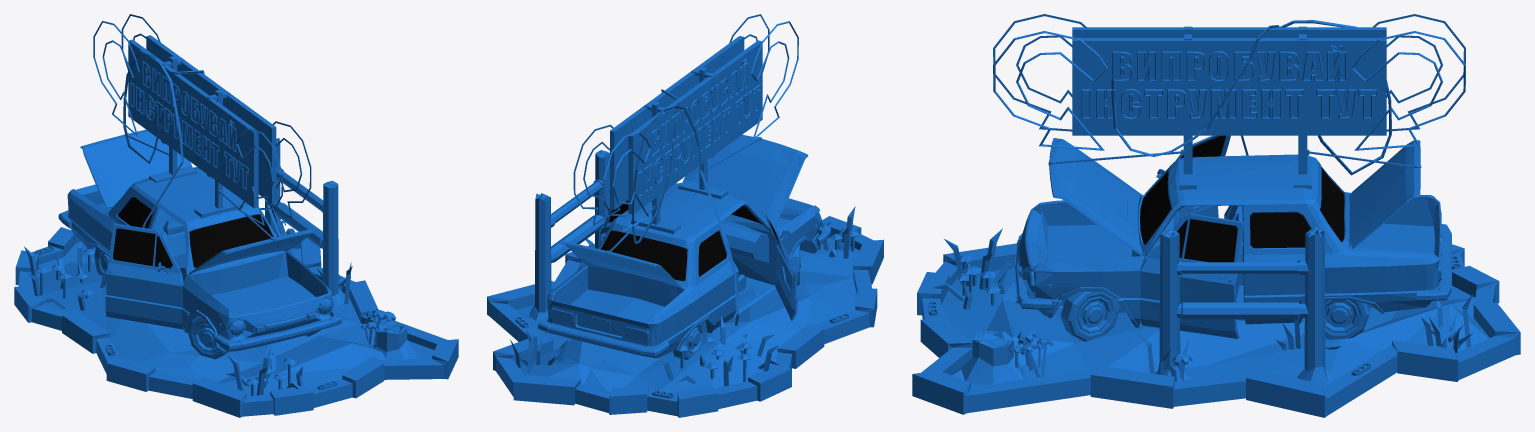
File: space_exhibition_stand.fbx
3 views of the same model, side by side, from view 1: azimuth 30°, elevation 25°; view 2: azimuth 150°, elevation 25°; view 3: azimuth 270°, elevation 25° (orthographic). The views are drawn at different scales.
Parts seen in each view (by area): view 1: Cylinder_131; view 2: Cylinder_131; view 3: Cylinder_131.
Boxes of the visible parts, x1,y1,x2,y2 form: Cylinder_131: [14, 14, 458, 417]; Cylinder_131: [487, 14, 883, 417]; Cylinder_131: [912, 14, 1520, 417].
Size of the model in its own units: 442 by 350 by 635.
